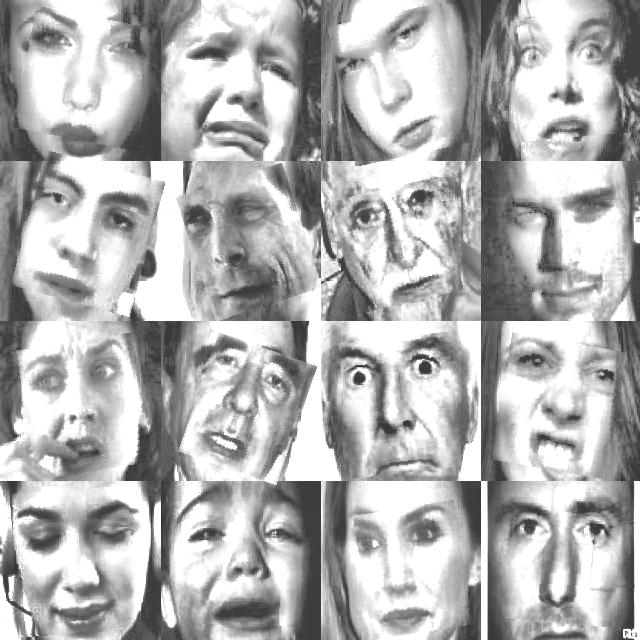angry: (333, 8, 465, 161), (21, 336, 149, 475), (495, 336, 622, 474)
fear: (342, 335, 459, 475), (510, 14, 626, 140)
happy: (13, 488, 135, 636)
neutral: (18, 157, 157, 311), (184, 169, 314, 314), (19, 12, 153, 146), (187, 339, 309, 478), (337, 183, 458, 309), (358, 504, 468, 636), (507, 510, 620, 625), (516, 183, 627, 292)
sad: (175, 15, 292, 149), (181, 500, 301, 626)
